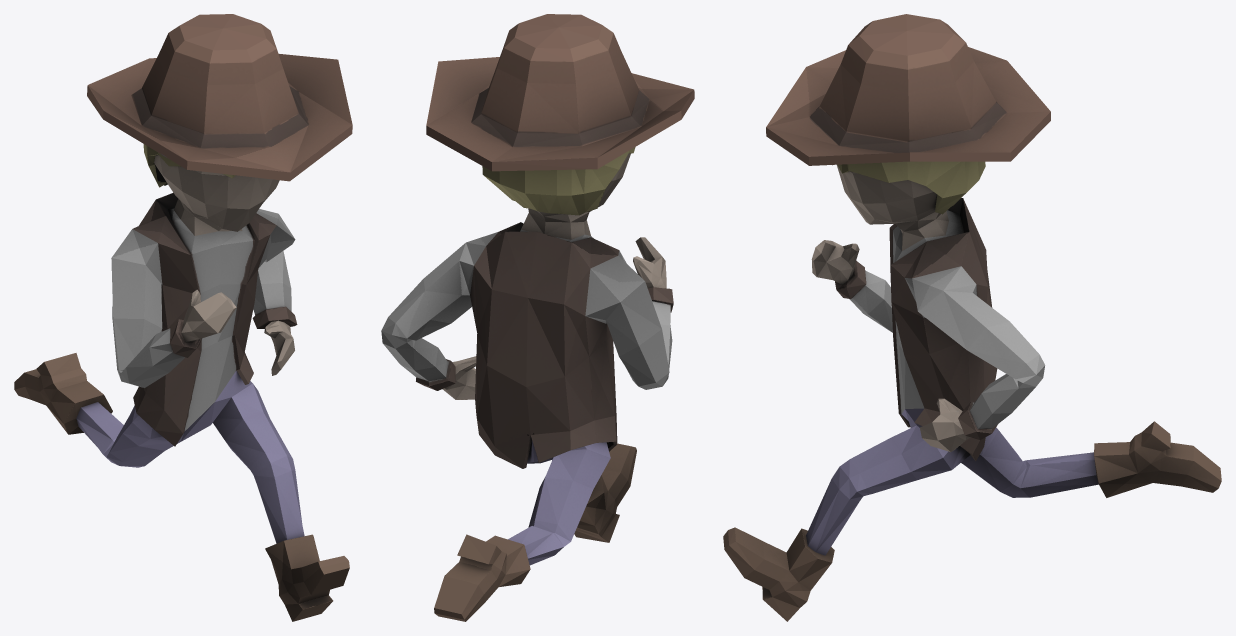
File: char_19.obj
3 views of the same model, side by side, from view 1: azimuth 30°, elevation 25°; view 2: azimuth 150°, elevation 25°; view 3: azimuth 270°, elevation 25° (orthographic). The views are drawn at different scales.
Parts seen in each view (by area): view 1: Cube; view 2: Cube; view 3: Cube.
Part boxes in pixels (box(x1,y1,x2,y2)): Cube: box(14, 14, 352, 621); Cube: box(381, 14, 694, 621); Cube: box(723, 14, 1221, 621).
Size of the model in its own units: 3.49 by 7.78 by 6.16.
Materials: 1 (1 with a texture image).
